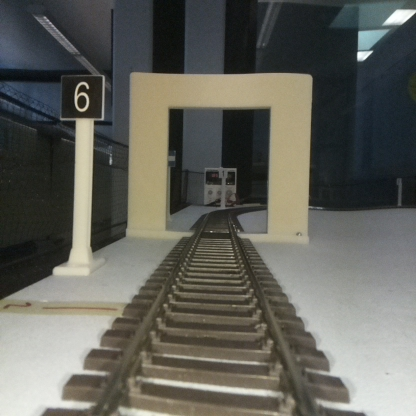black-info-6: (61, 75, 102, 274)
